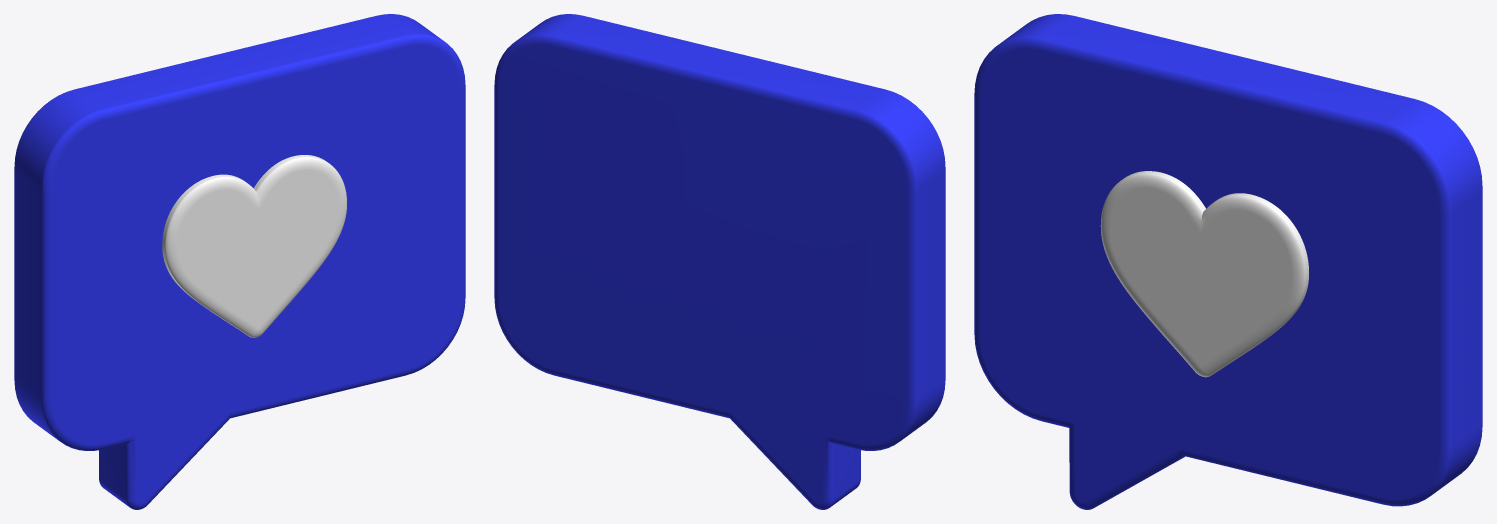
Rendered from like_4.glb.
3 renders of one model, left to right at view 1: azimuth 30°, elevation 25°; view 2: azimuth 150°, elevation 25°; view 3: azimuth 330°, elevation 25°, orthographic. The views are drawn at different scales.
Parts seen in each view (by area): view 1: Curve.001, Curve; view 2: Curve.001; view 3: Curve.001, Curve.
Part boxes in pixels (x1,y1,x2,y2): Curve.001: [14, 14, 465, 509]; Curve: [162, 155, 346, 337]; Curve.001: [494, 14, 945, 509]; Curve.001: [974, 14, 1482, 509]; Curve: [1100, 171, 1308, 377].
Bounding box in the file's own units: 2.89 × 2.67 × 0.4478.
